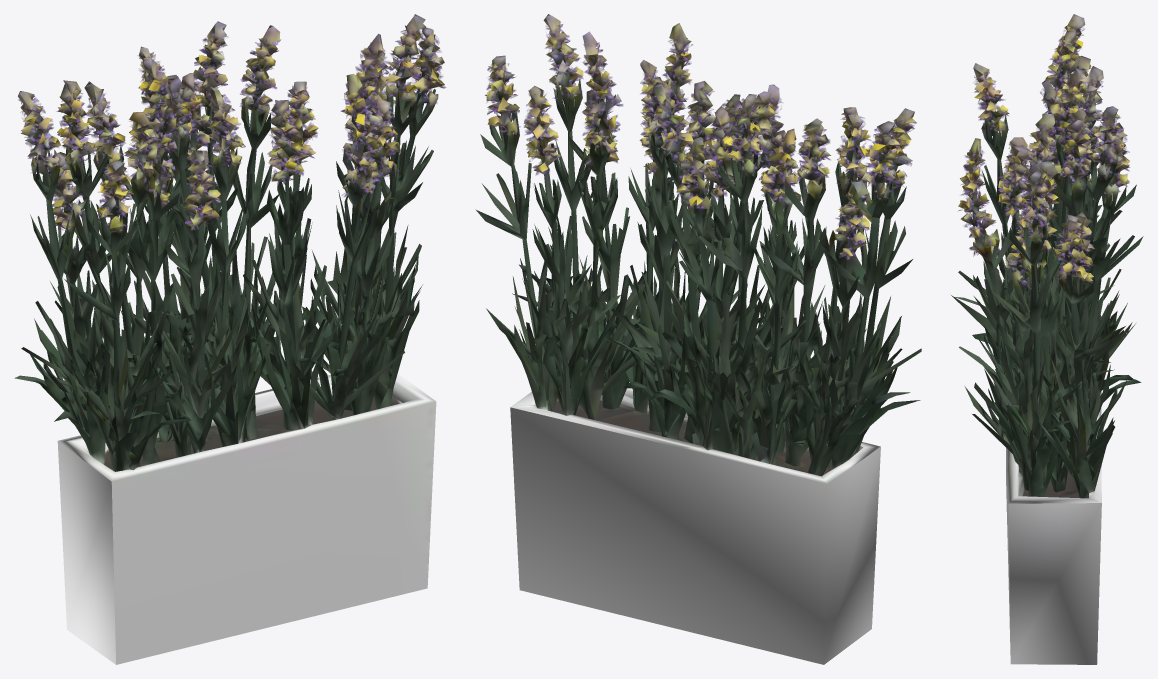
Rendered from fejka_sztuczna_roslina_w_doniczce_00586355.glb.
The picture shows the model from 3 angles, left to right: view 1: azimuth 30°, elevation 25°; view 2: azimuth 150°, elevation 25°; view 3: azimuth 270°, elevation 25°; orthographic projection. The views are drawn at different scales.
Parts seen in each view (by area): view 1: fejka_sztuczna_roslina_w_doniczce_00586355; view 2: fejka_sztuczna_roslina_w_doniczce_00586355; view 3: fejka_sztuczna_roslina_w_doniczce_00586355.
Part boxes in pixels (x1,y1,x2,y2): fejka_sztuczna_roslina_w_doniczce_00586355: (14, 14, 446, 664); fejka_sztuczna_roslina_w_doniczce_00586355: (475, 14, 921, 664); fejka_sztuczna_roslina_w_doniczce_00586355: (951, 14, 1143, 664).
Bounding box in the file's own units: 0.4694 × 0.5832 × 0.206.
Materials: 2 (2 with a texture image).
